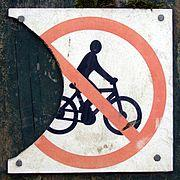Cycle Crossing: (53, 17, 55, 20)
